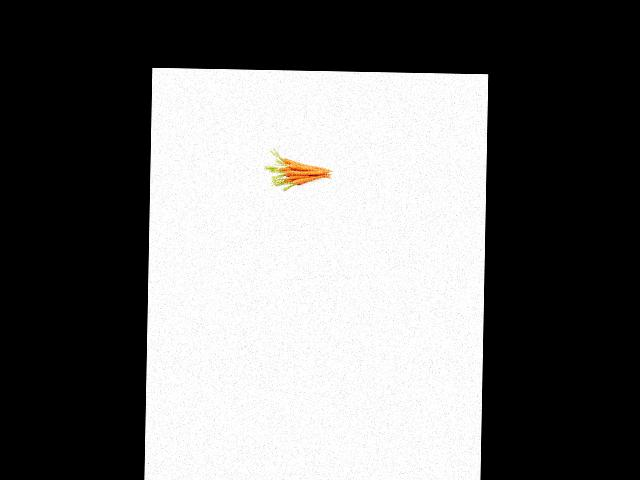carrot: (291, 171, 328, 188)
